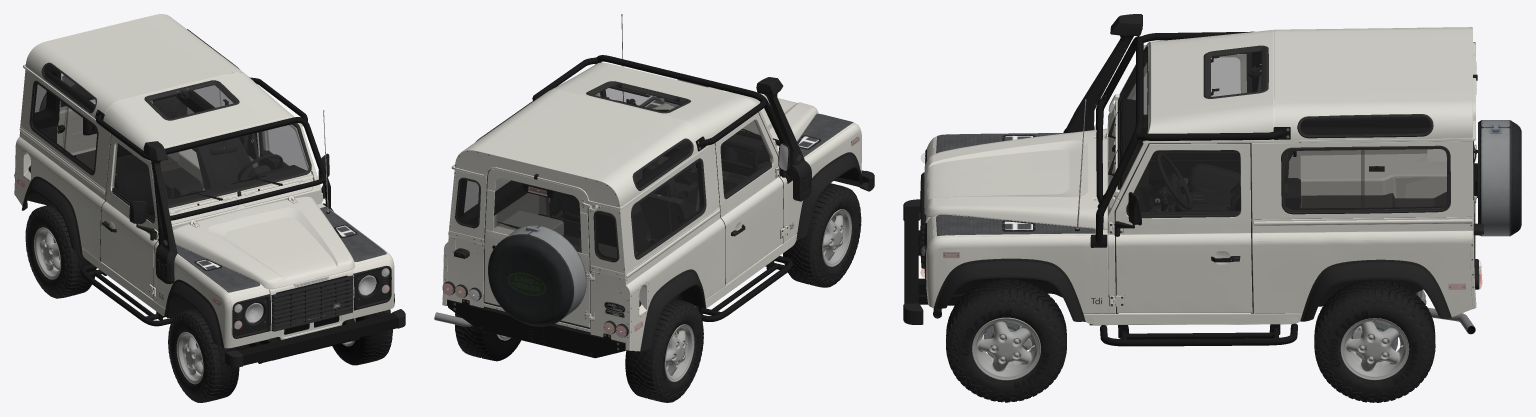
The model's file is defender.glb.
3 renders of one model, left to right at view 1: azimuth 30°, elevation 25°; view 2: azimuth 150°, elevation 25°; view 3: azimuth 270°, elevation 25°, orthographic. The views are drawn at different scales.
Parts seen in each view (by area): view 1: Defender:TrunkInterior_XYZ_TrunkInterior_XYZ_Customisable_Bo (×6), Defender:Roof_XY_Roof_XY_Shared_Glass_Mat_Roof_Color_0, Defender:Roof_XY_Roof_XY_Shared_Glass_Mat_Glass_Y_Mat1_0, polySurface10330_RAM_1500TRX_2021_Wheel1A_3D_3DWheel2A_Mater, Defender:Interior_XYZ_Interior_XYZ_Shared_LeatherSmoothBlack (×2), Defender:FendersFront_XY_FendersFront_XY_Shared_PlasticRough, wheel1:Wheel_Stock_LR_Defender_97_LOD0_Wheel_Stock_LR_Defend, Defender:Headlights_XY_Headlights_XY_Customisable_BodyColour (×2), Defender:SuspensionRear_XYZ_SuspensionRear_XYZ_LR_Defender_9, Defender:Roof_XY_Roof_XY_Shared_Glass_Mat_Defender:Shared_Ch; view 2: Defender:TrunkInterior_XYZ_TrunkInterior_XYZ_Customisable_Bo (×7), Defender:Roof_XY_Roof_XY_Shared_Glass_Mat_Roof_Color_0, Defender:Roof_XY_Roof_XY_Shared_Glass_Mat_Glass_Y_Mat1_0, polySurface10330_RAM_1500TRX_2021_Wheel1A_3D_3DWheel2A_Mater, Defender:Trunk_XY_Trunk_XY_Shared_TitaniumSatin_Mat_TyreCove, wheel1:Wheel_Stock_LR_Defender_97_LOD0_Wheel_Stock_LR_Defend, Defender:FendersFront_XY_FendersFront_XY_Shared_PlasticRough, Defender:Interior_XYZ_Interior_XYZ_Shared_LeatherSmoothBlack (×2), Defender:Roof_XY_Roof_XY_Shared_Glass_Mat_Taillights_Mat1_0, Defender:Roof_XY_Roof_XY_Shared_Glass_Mat_TaillightsGlass_Ma; view 3: Defender:TrunkInterior_XYZ_TrunkInterior_XYZ_Customisable_Bo (×5), Defender:Roof_XY_Roof_XY_Shared_Glass_Mat_Roof_Color_0, Defender:Roof_XY_Roof_XY_Shared_Glass_Mat_Glass_Y_Mat1_0, polySurface10330_RAM_1500TRX_2021_Wheel1A_3D_3DWheel2A_Mater, wheel1:Wheel_Stock_LR_Defender_97_LOD0_Wheel_Stock_LR_Defend, Defender:Trunk_XY_Trunk_XY_Shared_TitaniumSatin_Mat_TyreCove, Defender:FendersFront_XY_FendersFront_XY_Shared_PlasticRough, Defender:Interior_XYZ_Interior_XYZ_Shared_LeatherSmoothBlack (×2), Defender:BrakeFL_XYZ_BrakeFL_XYZ_Customisable_BrakesColour_M.
Part boxes in pixels (box(x1,y1,x2,y2)): Defender:TrunkInterior_XYZ_TrunkInterior_XYZ_Customisable_Bo (×6): box(14, 29, 405, 367); Defender:Roof_XY_Roof_XY_Shared_Glass_Mat_Roof_Color_0: box(23, 14, 303, 162); Defender:Roof_XY_Roof_XY_Shared_Glass_Mat_Glass_Y_Mat1_0: box(32, 65, 308, 220); polySurface10330_RAM_1500TRX_2021_Wheel1A_3D_3DWheel2A_Mater: box(25, 204, 392, 402); Defender:Interior_XYZ_Interior_XYZ_Shared_LeatherSmoothBlack (×2): box(28, 137, 297, 315); Defender:FendersFront_XY_FendersFront_XY_Shared_PlasticRough: box(175, 206, 386, 292); wheel1:Wheel_Stock_LR_Defender_97_LOD0_Wheel_Stock_LR_Defend: box(34, 227, 355, 384); Defender:Headlights_XY_Headlights_XY_Customisable_BodyColour (×2): box(212, 268, 389, 329); Defender:SuspensionRear_XYZ_SuspensionRear_XYZ_LR_Defender_9: box(284, 289, 339, 334); Defender:Roof_XY_Roof_XY_Shared_Glass_Mat_Defender:Shared_Ch: box(115, 110, 389, 329); Defender:TrunkInterior_XYZ_TrunkInterior_XYZ_Customisable_Bo (×7): box(442, 55, 874, 358); Defender:Roof_XY_Roof_XY_Shared_Glass_Mat_Roof_Color_0: box(451, 62, 757, 210); Defender:Roof_XY_Roof_XY_Shared_Glass_Mat_Glass_Y_Mat1_0: box(457, 81, 771, 259); polySurface10330_RAM_1500TRX_2021_Wheel1A_3D_3DWheel2A_Mater: box(455, 183, 861, 402); Defender:Trunk_XY_Trunk_XY_Shared_TitaniumSatin_Mat_TyreCove: box(488, 225, 586, 326); wheel1:Wheel_Stock_LR_Defender_97_LOD0_Wheel_Stock_LR_Defend: box(496, 209, 851, 381); Defender:FendersFront_XY_FendersFront_XY_Shared_PlasticRough: box(640, 79, 853, 156); Defender:Interior_XYZ_Interior_XYZ_Shared_LeatherSmoothBlack (×2): box(646, 146, 859, 307); Defender:Roof_XY_Roof_XY_Shared_Glass_Mat_Taillights_Mat1_0: box(442, 186, 641, 337); Defender:Roof_XY_Roof_XY_Shared_Glass_Mat_TaillightsGlass_Ma: box(442, 284, 642, 337); Defender:TrunkInterior_XYZ_TrunkInterior_XYZ_Customisable_Bo (×5): box(903, 14, 1483, 346); Defender:Roof_XY_Roof_XY_Shared_Glass_Mat_Roof_Color_0: box(1142, 27, 1476, 143); Defender:Roof_XY_Roof_XY_Shared_Glass_Mat_Glass_Y_Mat1_0: box(1120, 46, 1446, 213); polySurface10330_RAM_1500TRX_2021_Wheel1A_3D_3DWheel2A_Mater: box(946, 279, 1435, 402); wheel1:Wheel_Stock_LR_Defender_97_LOD0_Wheel_Stock_LR_Defend: box(972, 317, 1409, 380); Defender:Trunk_XY_Trunk_XY_Shared_TitaniumSatin_Mat_TyreCove: box(1478, 120, 1521, 236); Defender:FendersFront_XY_FendersFront_XY_Shared_PlasticRough: box(936, 133, 1095, 235); Defender:Interior_XYZ_Interior_XYZ_Shared_LeatherSmoothBlack (×2): box(959, 140, 1423, 306); Defender:BrakeFL_XYZ_BrakeFL_XYZ_Customisable_BrakesColour_M: box(983, 321, 1397, 362).
Size of the model in its own units: 0.0192 by 0.021 by 0.0399.
34 materials, 15 textured.
